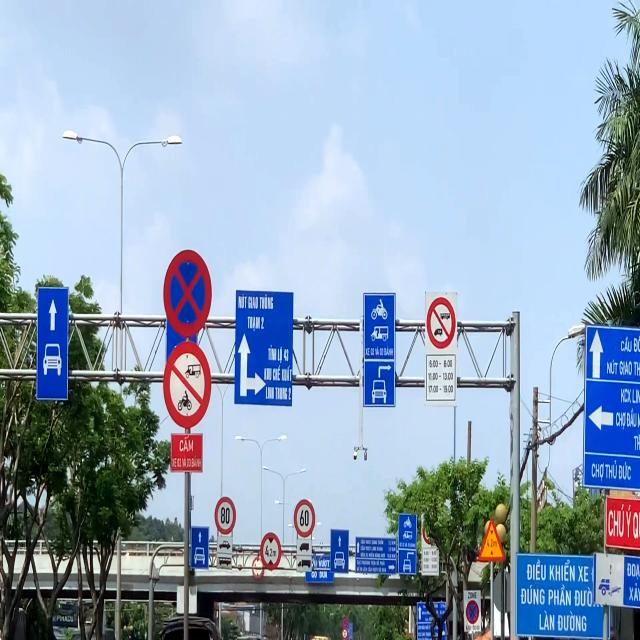P.117: (260, 532, 281, 570)
P.127: (215, 496, 236, 535), (294, 499, 315, 537)
P.130: (163, 249, 213, 337), (466, 600, 479, 624), (342, 617, 348, 628)
S.509a: (477, 517, 507, 563)
